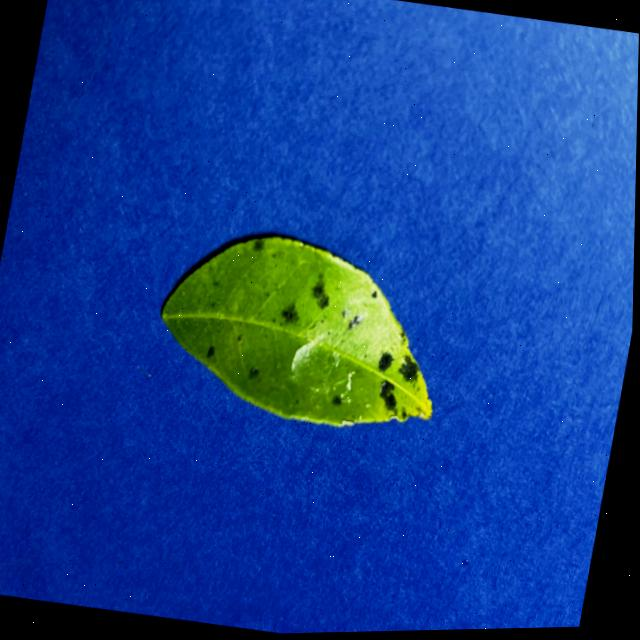sooty_mold: (161, 236, 431, 424)
